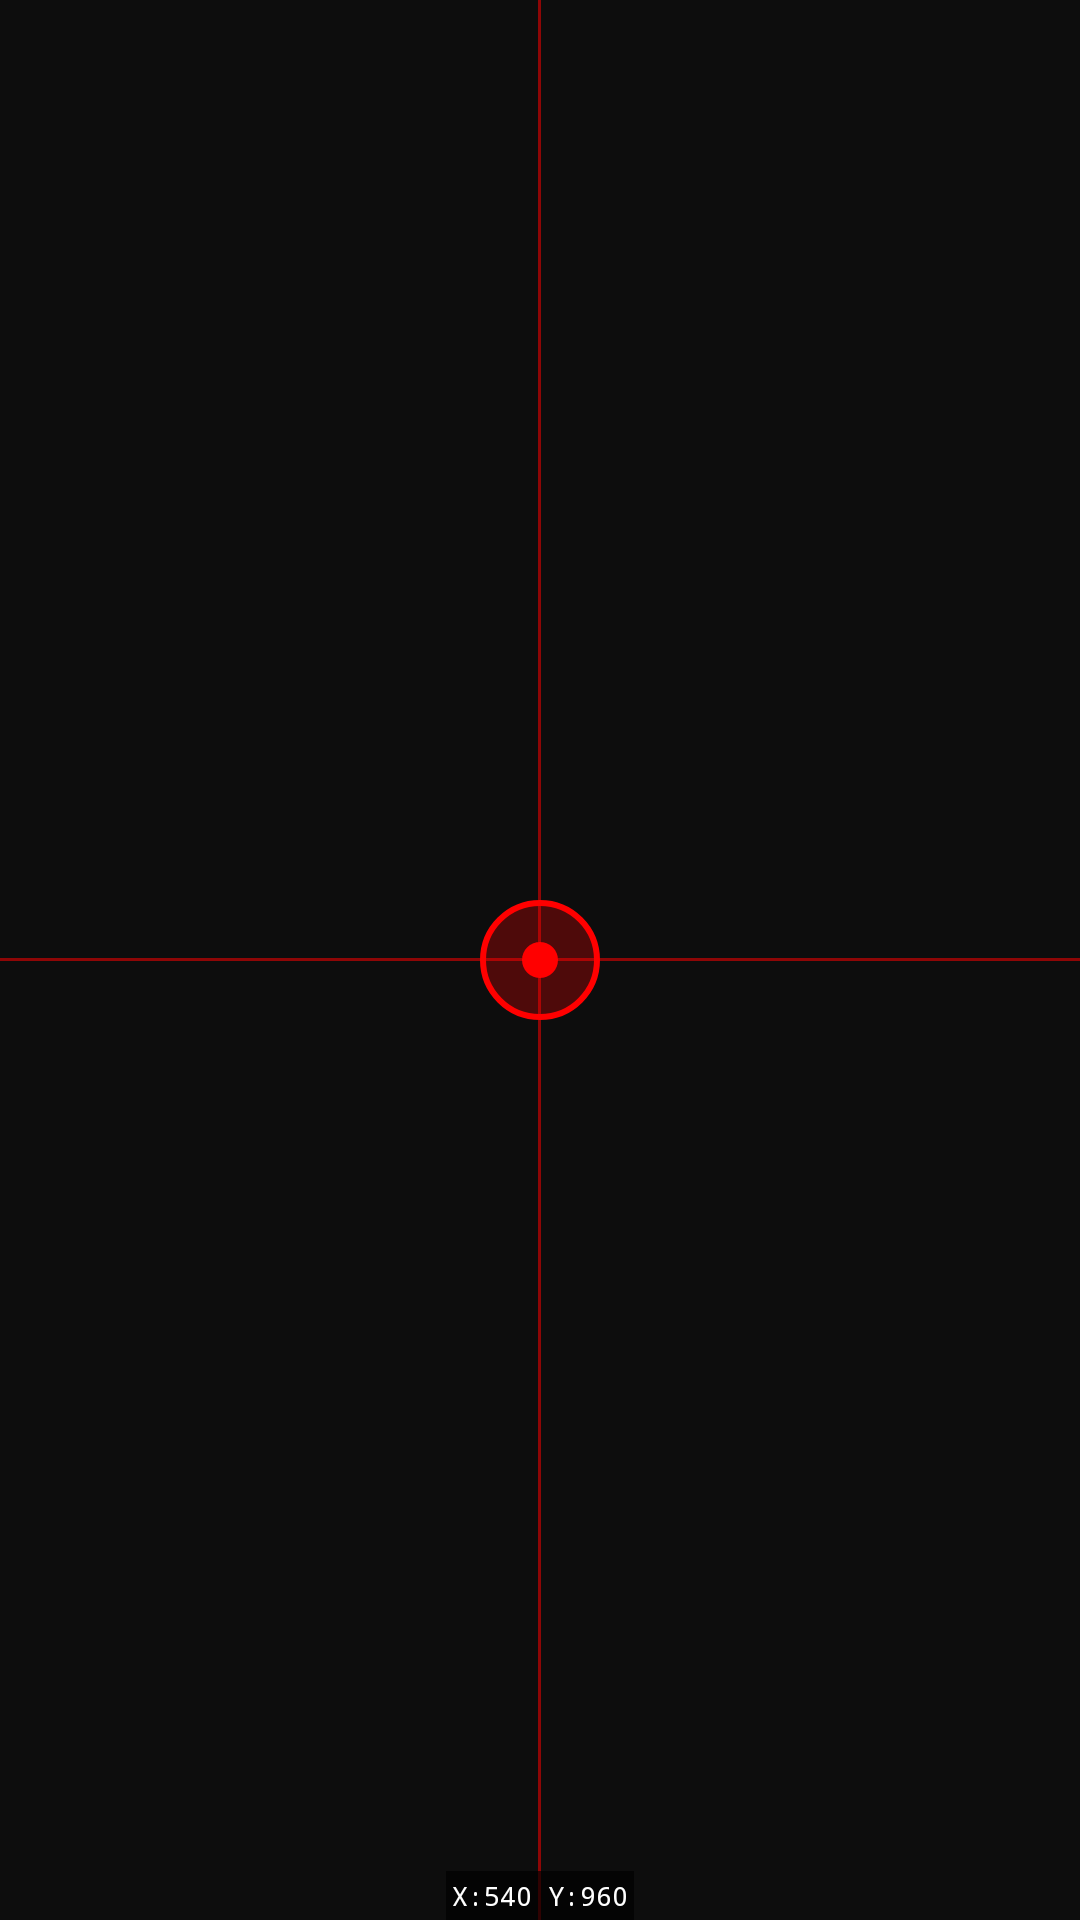

Where to tap for icons on this 1080px x 1920px app screen, as (x,y):
target dot: (540,960)
